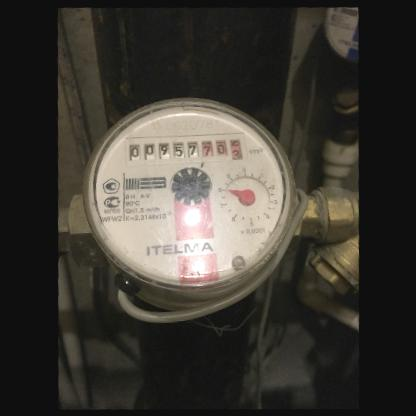digital_screen: (122, 132, 202, 170)
